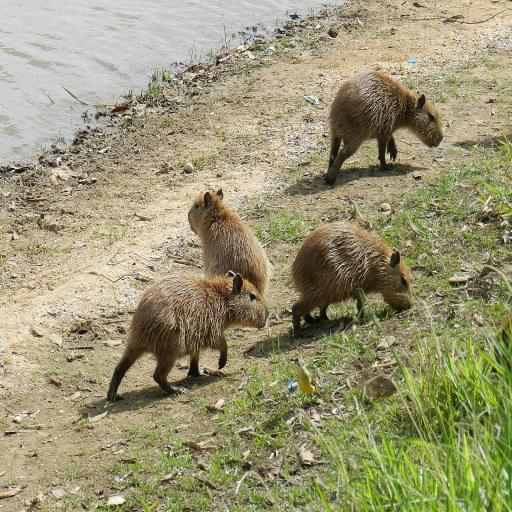capybara: (108, 272, 268, 401), (292, 222, 412, 335), (325, 72, 443, 184), (188, 190, 270, 295), (495, 315, 511, 369)
